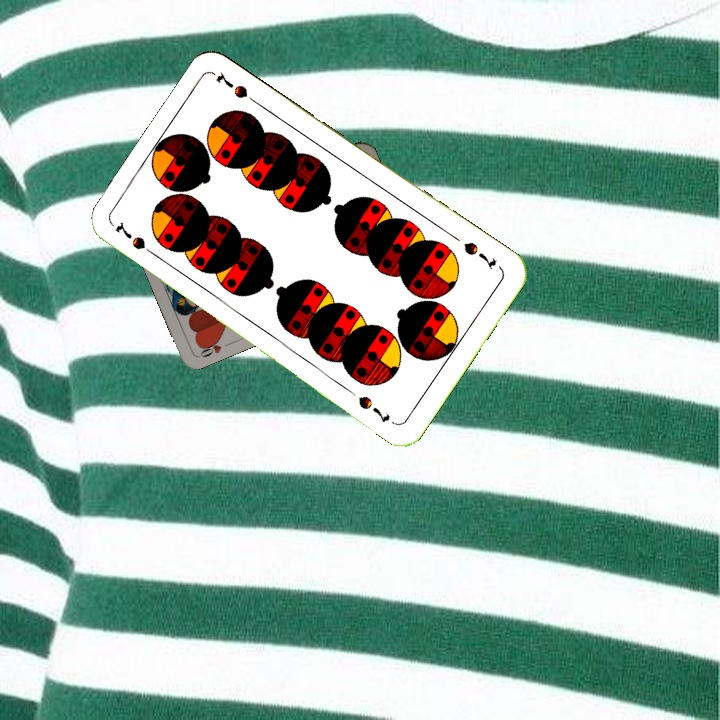HO: (195, 334, 234, 360)
S7: (111, 218, 161, 261), (459, 237, 499, 273)
